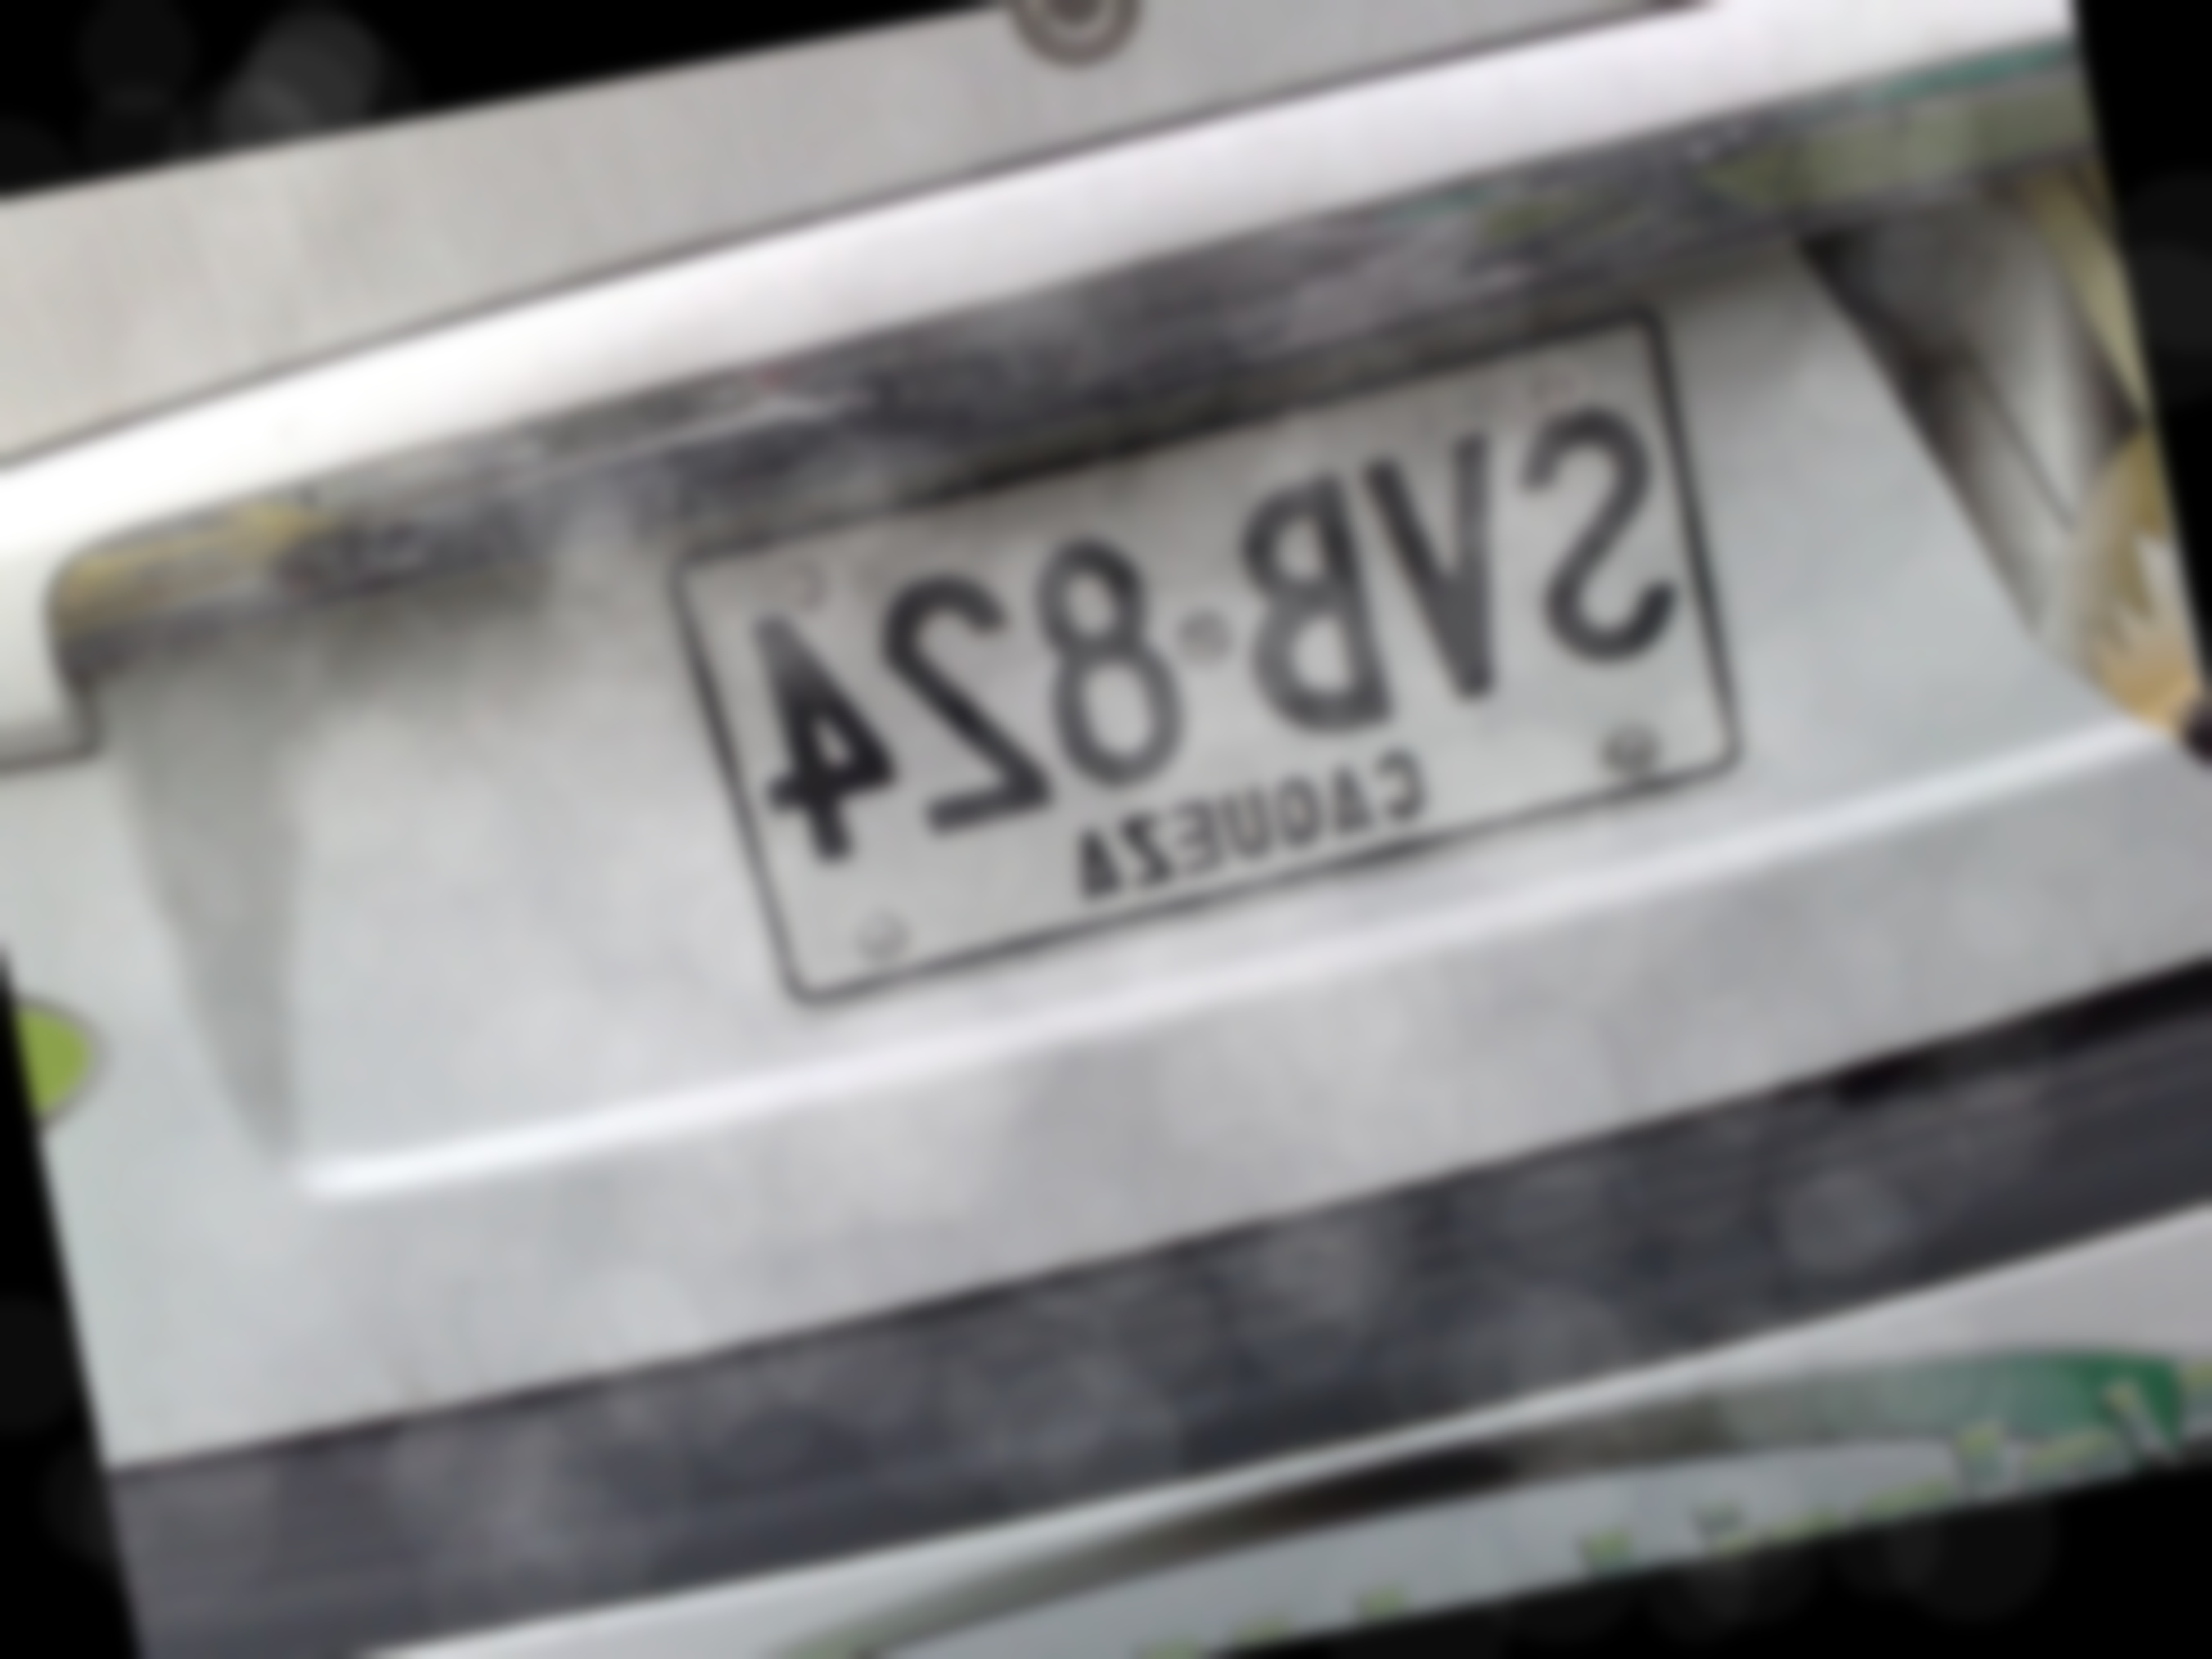placas: (628, 277, 1794, 1046)
